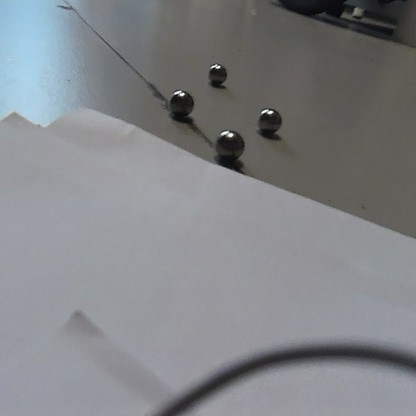ironball: (210, 124, 248, 165), (164, 87, 198, 121), (255, 104, 287, 140), (203, 57, 230, 88)
